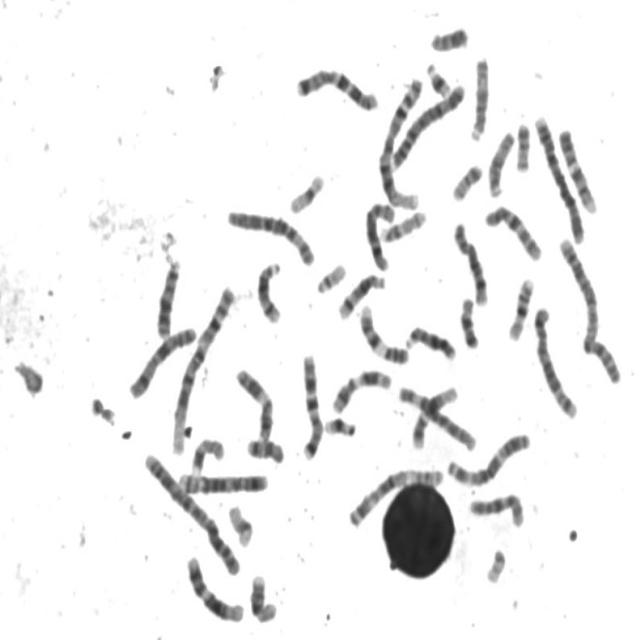A1: (168, 279, 238, 457), (374, 72, 426, 213)
A2: (140, 445, 244, 578), (555, 230, 624, 386)
A3: (345, 461, 446, 529), (444, 426, 534, 488)
B4: (531, 109, 588, 245), (386, 76, 468, 170)
B5: (530, 299, 580, 421), (174, 466, 271, 496)
C10: (481, 197, 545, 263), (466, 487, 528, 529)
C11: (232, 362, 277, 443), (328, 362, 395, 415)
C12: (182, 549, 247, 625), (408, 379, 461, 451)
C6: (394, 378, 479, 453), (223, 202, 318, 268)
C7: (291, 61, 382, 112), (298, 347, 325, 461)
C8: (449, 215, 491, 308), (361, 196, 396, 273)
C9: (555, 123, 600, 215), (355, 297, 412, 366)
D13: (153, 252, 184, 340), (402, 318, 459, 362)
D14: (334, 266, 388, 321), (253, 254, 285, 325)
D15: (484, 124, 517, 199), (466, 50, 492, 143)
E16: (504, 270, 537, 343), (246, 568, 280, 624)
E17: (377, 203, 428, 244), (188, 431, 226, 475)
E18: (456, 291, 482, 351), (244, 432, 287, 466)
F19: (286, 166, 328, 215), (224, 498, 256, 550)
F20: (448, 156, 486, 202), (512, 115, 533, 174)
G21: (422, 55, 454, 99), (321, 410, 358, 439)
G22: (312, 257, 349, 295), (481, 542, 509, 586)
X: (125, 318, 199, 402)
Y: (426, 19, 471, 53)
